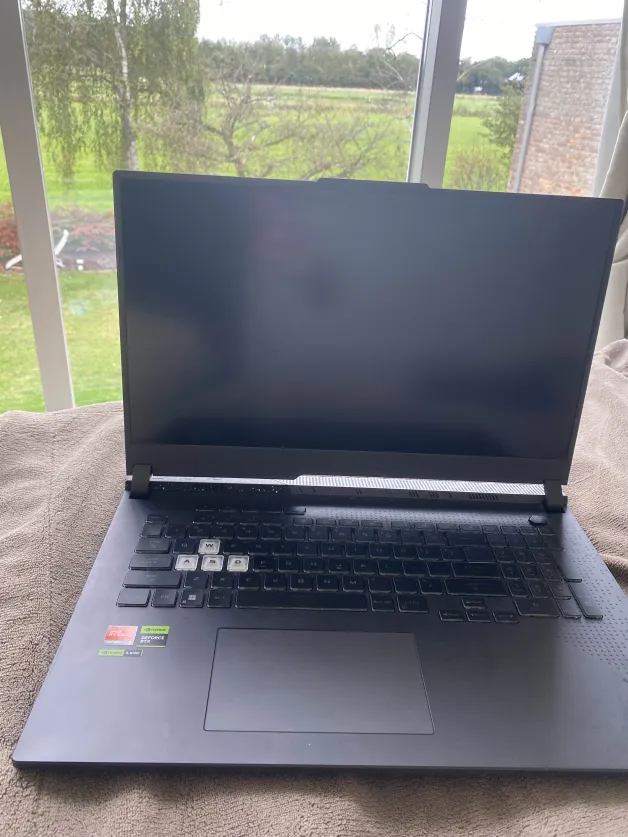laptop: (8, 162, 628, 787)
